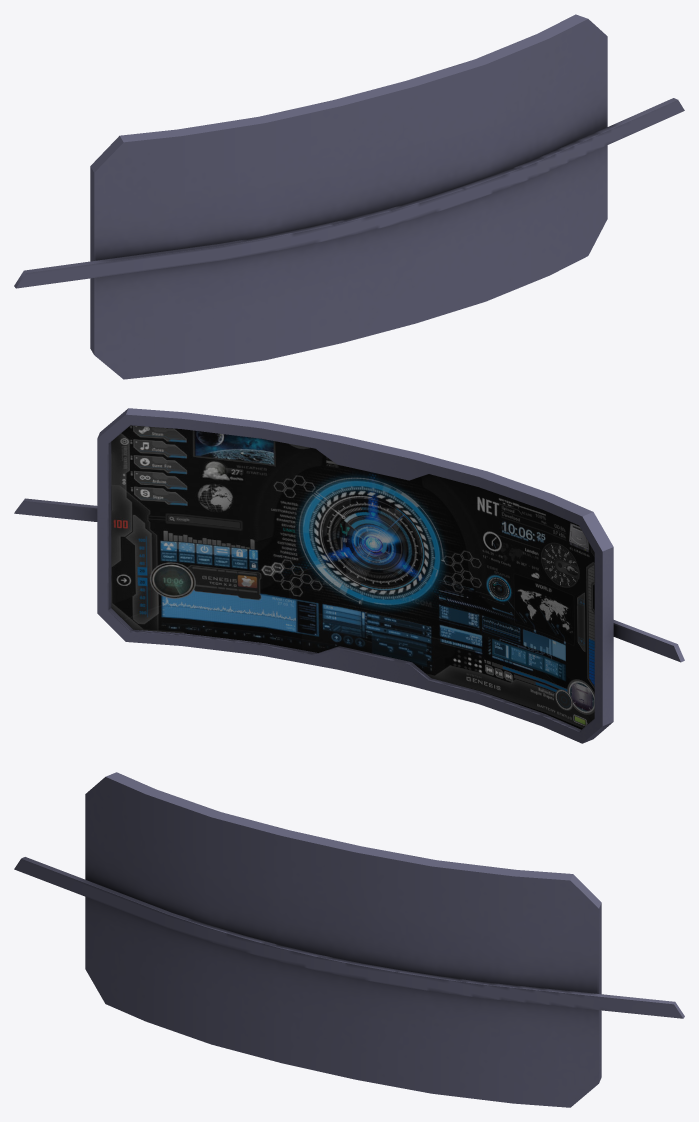
Rendered from Display.fbx.
3 renders of one model, top to bottom at view 1: azimuth 30°, elevation 25°; view 2: azimuth 150°, elevation 25°; view 3: azimuth 330°, elevation 25°, orthographic. The views are drawn at different scales.
Parts seen in each view (by area): view 1: Display; view 2: Display; view 3: Display.
Part boxes in pixels (left/top/right/bottom): Display: left=14, top=14, right=684, bottom=379; Display: left=14, top=408, right=684, bottom=743; Display: left=14, top=772, right=684, bottom=1107.
Size of the model in its own units: 550 by 182 by 65.89.
